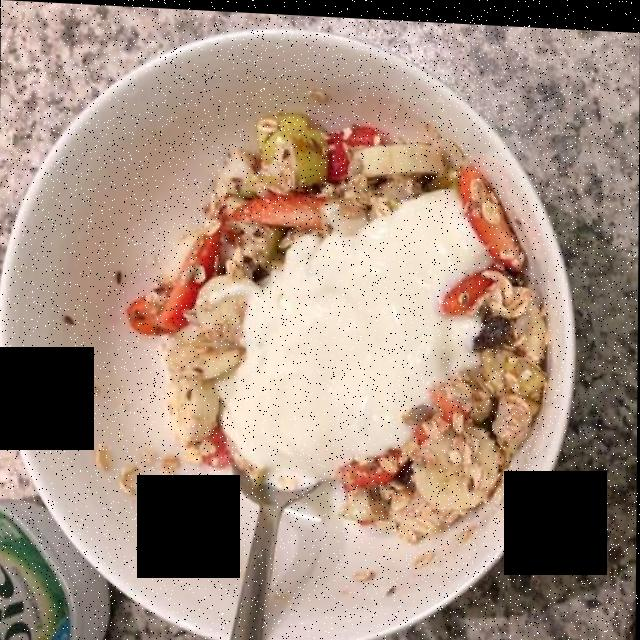birchermuesli-prepared-no-sugar-added: (138, 122, 533, 532)
